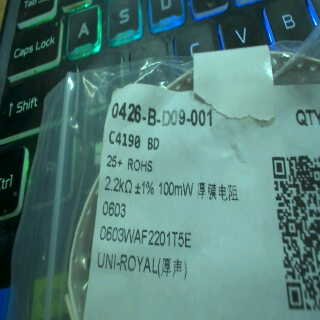2.2kR: (100, 173, 134, 197)
